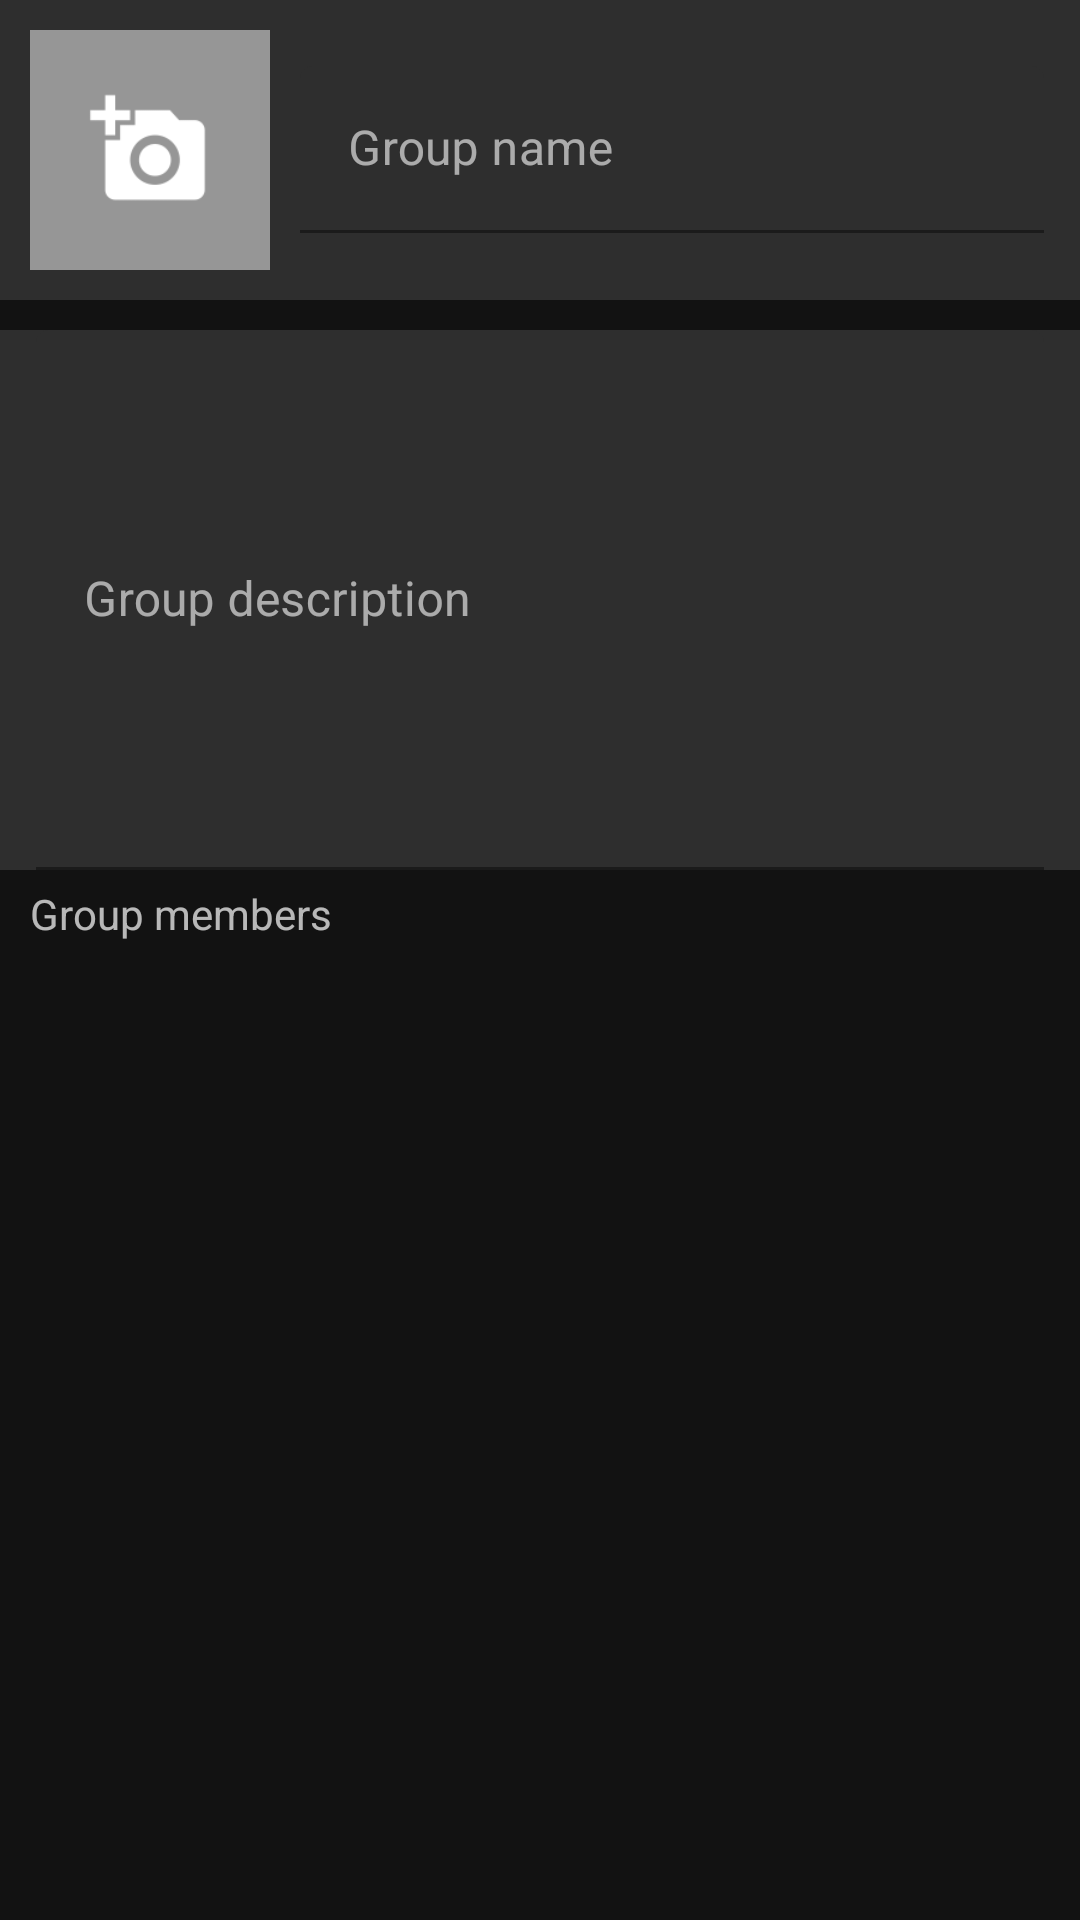

Where to tap for icons on this 1080 x 1920 app screen, as [x,y]:
add: [150,150]
